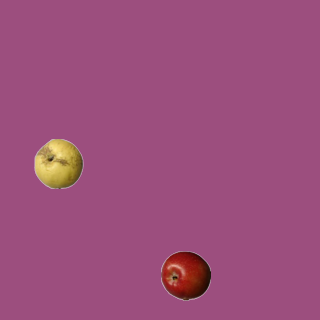Apple Braeburn: (160, 250, 210, 300)
Apple Golden 1: (33, 138, 83, 188)
